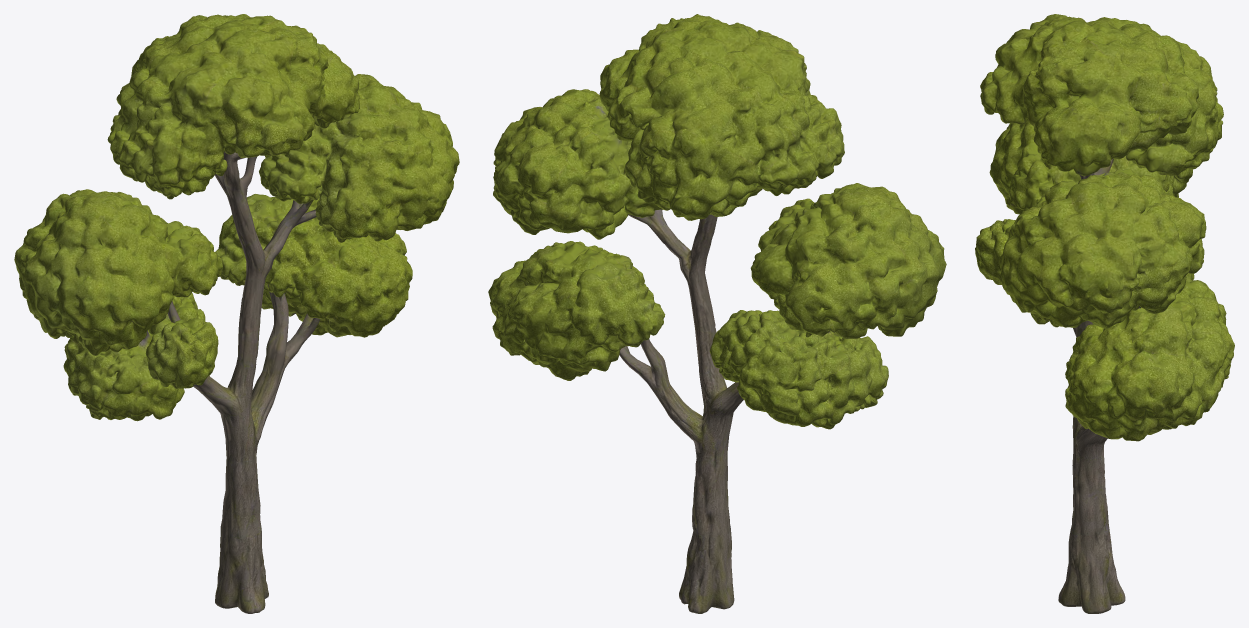
File: fresno.glb
The picture shows the model from 3 angles, left to right: view 1: azimuth 30°, elevation 25°; view 2: azimuth 150°, elevation 25°; view 3: azimuth 270°, elevation 25°; orthographic projection.
Visible parts, largest first — view 1: aligerado; view 2: aligerado; view 3: aligerado.
Boxes of the visible parts, bbox=[...] form: aligerado: bbox=[14, 14, 459, 613]; aligerado: bbox=[488, 14, 946, 613]; aligerado: bbox=[975, 14, 1234, 613].
Size of the model in its own units: 7.12 by 9.2 by 3.75.
1 material, 1 textured.
